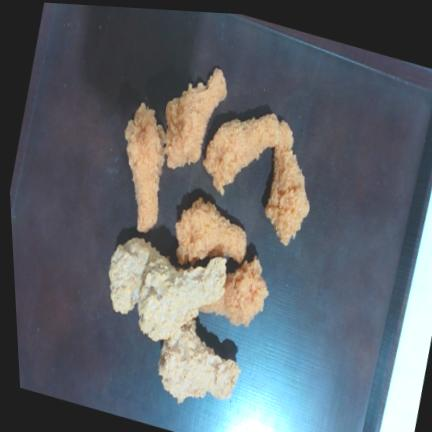chicken: (137, 259, 226, 341), (159, 320, 240, 403), (165, 68, 227, 169), (204, 114, 280, 195), (266, 122, 310, 246), (125, 103, 165, 231), (200, 256, 269, 326), (176, 198, 247, 265)
